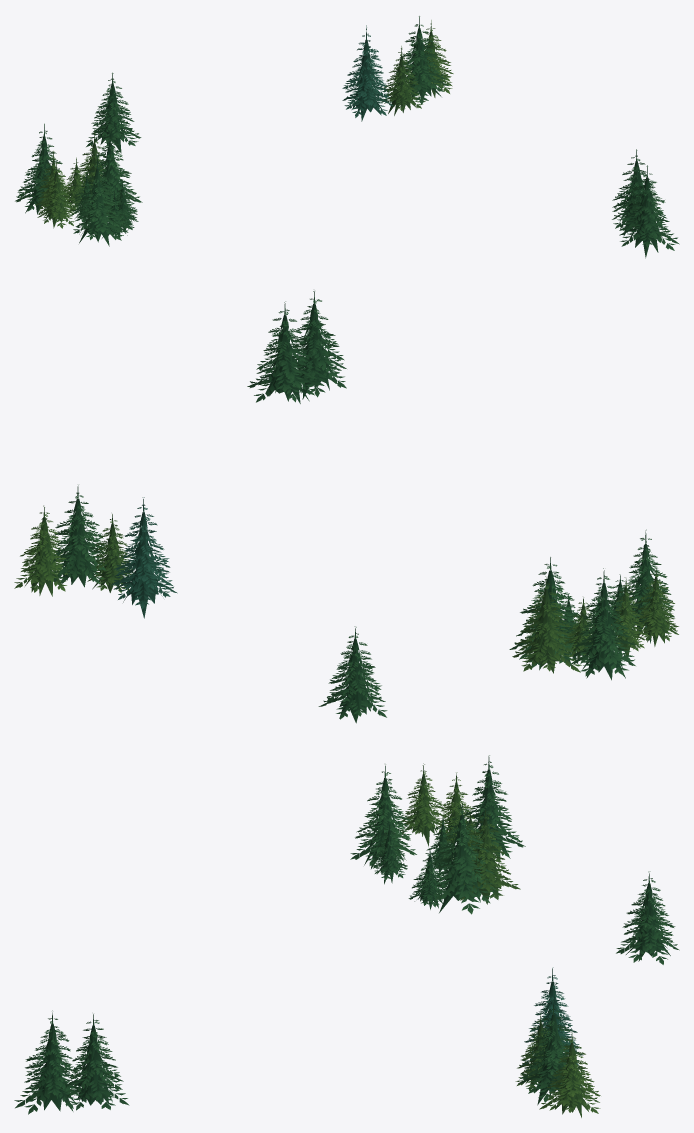
3 renders of one model, top to bottom at view 1: azimuth 30°, elevation 25°; view 2: azimuth 150°, elevation 25°; view 3: azimuth 270°, elevation 25°, orthographic. The views are drawn at different scales.
Visible parts, largest first — view 1: pn_15; view 2: pn_15; view 3: pn_15.
Boxes of the visible parts, <box> form: pn_15: <box>15,16,679,258</box>; pn_15: <box>14,291,678,723</box>; pn_15: <box>14,755,679,1117</box>.
Size of the model in its own units: 88.58 by 18.58 by 88.52.
Materials: 1 (1 with a texture image).
